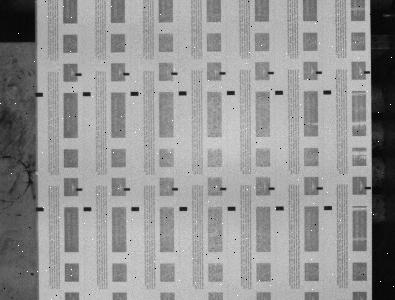backgroundclutter: (31, 273, 34, 276)
qblock: (130, 91, 139, 96), (35, 92, 43, 97), (323, 90, 332, 94), (179, 207, 188, 211), (36, 207, 44, 211), (83, 92, 91, 96), (179, 91, 187, 95), (227, 91, 235, 95), (275, 90, 283, 94), (324, 206, 332, 210), (131, 207, 139, 211), (276, 206, 284, 210), (228, 206, 236, 210), (84, 207, 91, 211)
smallqblock: (75, 73, 82, 76), (123, 72, 130, 75), (171, 72, 178, 75), (267, 71, 274, 74), (76, 188, 83, 191), (268, 187, 275, 190), (220, 187, 227, 190), (365, 186, 372, 189), (220, 72, 226, 75), (316, 71, 322, 74), (124, 188, 130, 191), (364, 71, 370, 74), (172, 188, 178, 191), (317, 187, 323, 190)
